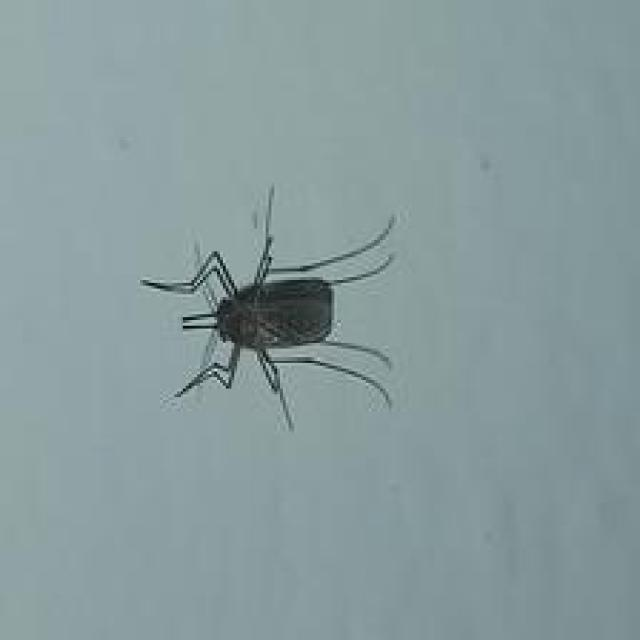Culex: (140, 183, 397, 431)
